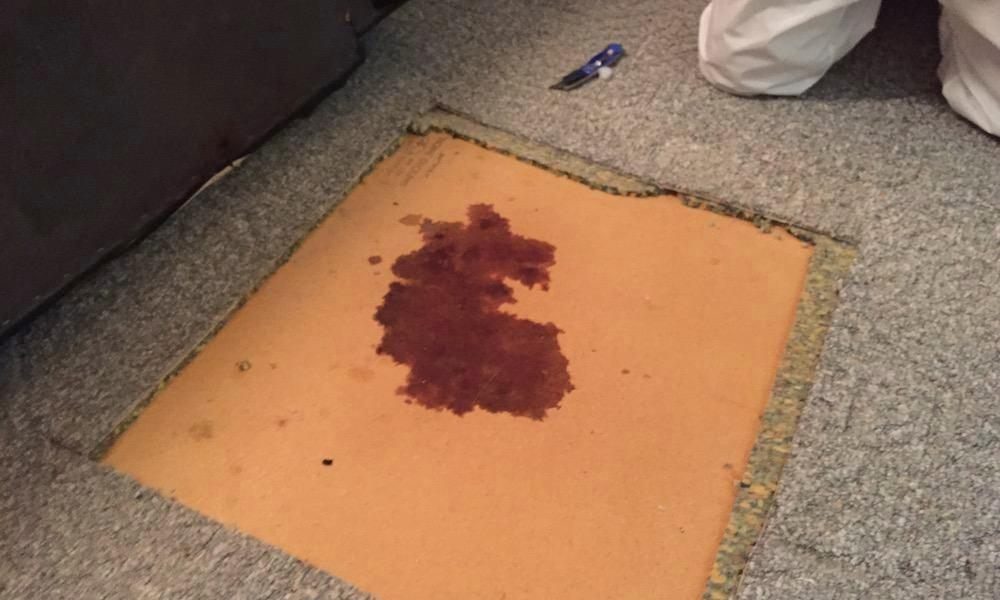Bloodstain-Detection: (372, 200, 570, 424)
